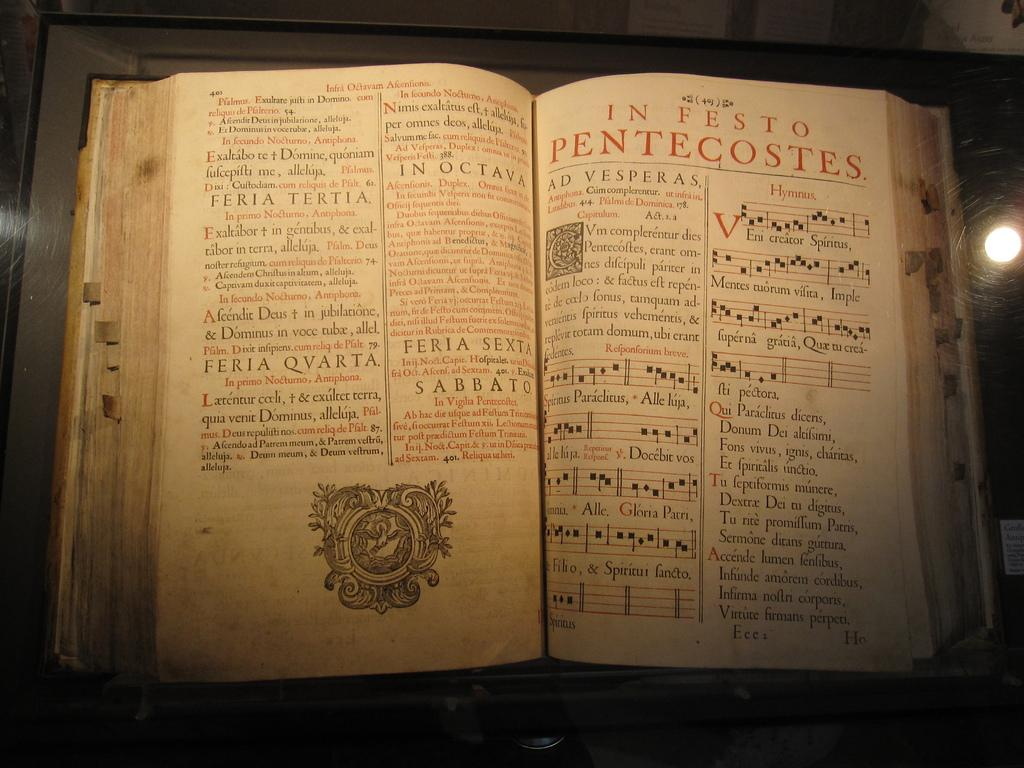book: (57, 51, 991, 716)
